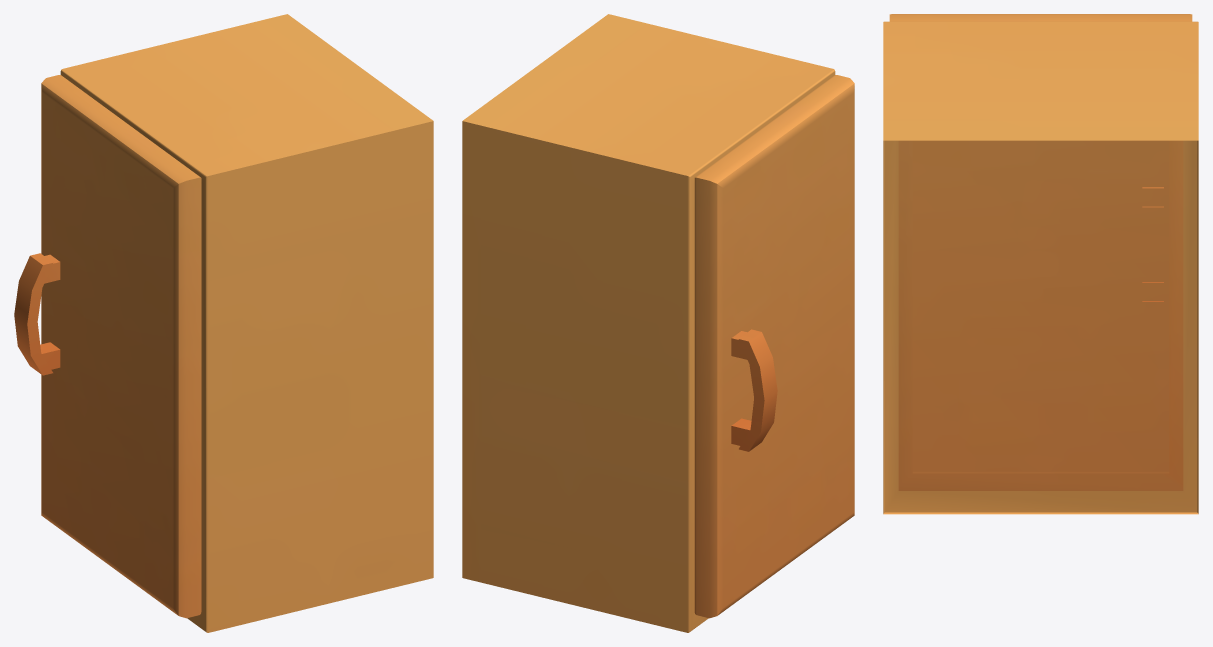
Rendered from holodos.fbx.
3 views of the same model, side by side, from view 1: azimuth 30°, elevation 25°; view 2: azimuth 150°, elevation 25°; view 3: azimuth 270°, elevation 25° (orthographic). The views are drawn at different scales.
Visible parts, largest first — view 1: holodos, ru4ka; view 2: holodos, ru4ka; view 3: holodos.
Part boxes in pixels (x1,y1,x2,y2): holodos: [41, 14, 433, 632]; ru4ka: [14, 253, 60, 375]; holodos: [462, 14, 854, 632]; ru4ka: [731, 329, 777, 451]; holodos: [883, 14, 1198, 514].
Size of the model in its own units: 27.62 by 41.9 by 24.3.
1 material, 1 textured.
